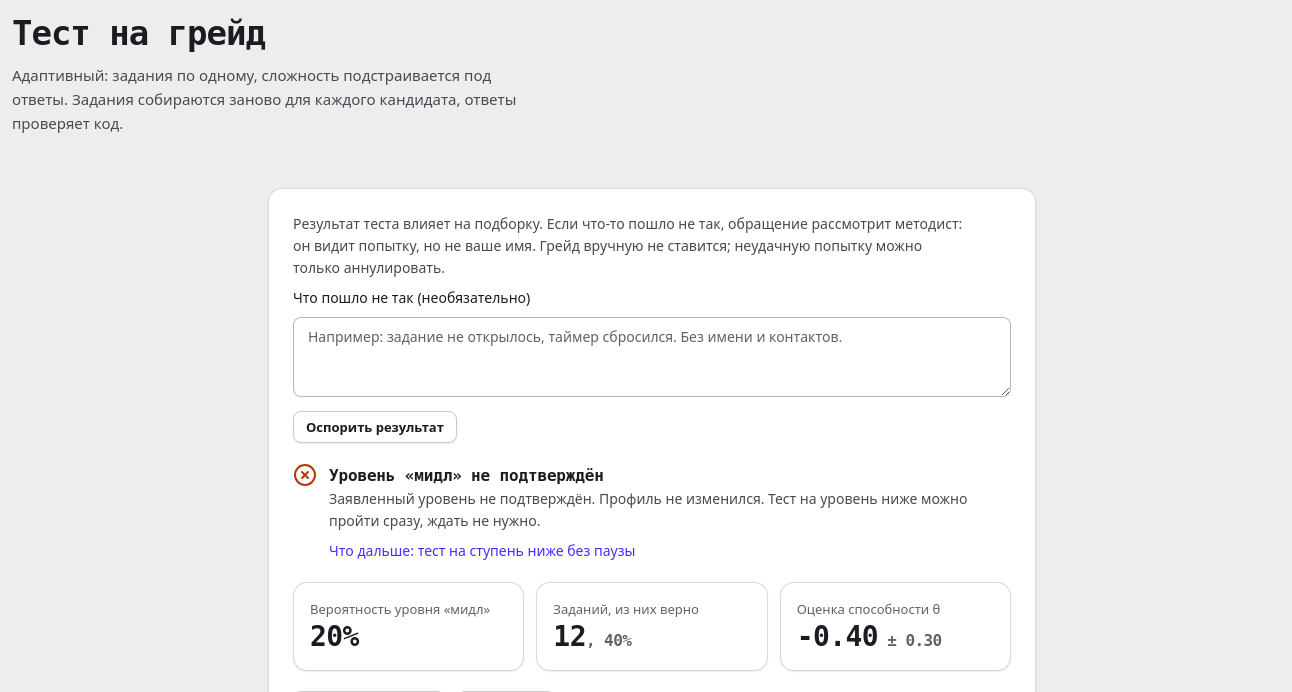
Test case: тест на грейд › после несданного теста предлагает ступень ниже без паузы
Click the button "Что дальше: тест на ступень ниже без паузы". click: (482, 551)
box: 329,540 -> 636,562
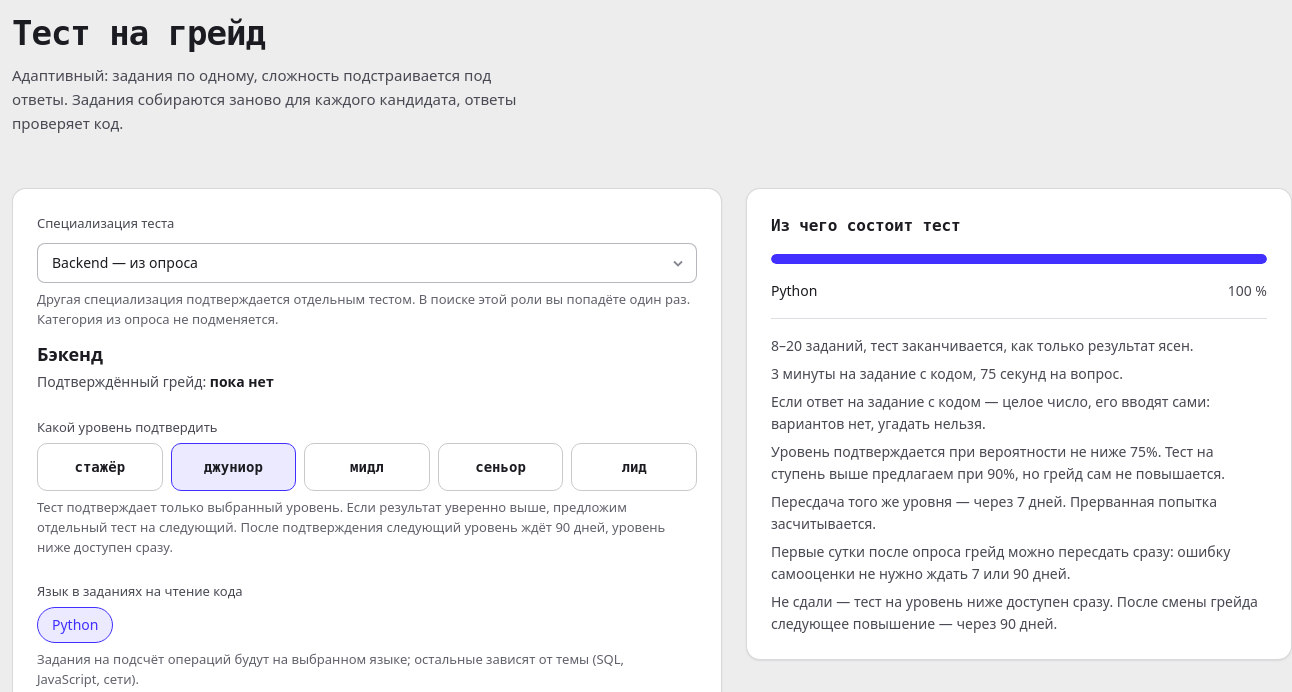
Now the button "тест на ступень ниже" is gone
